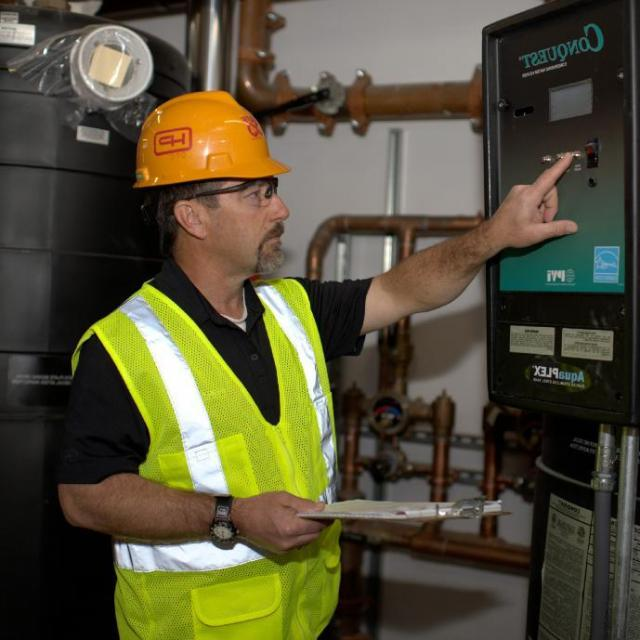reflective_jacket: (69, 267, 350, 637)
safety_helmet: (126, 85, 295, 197)
